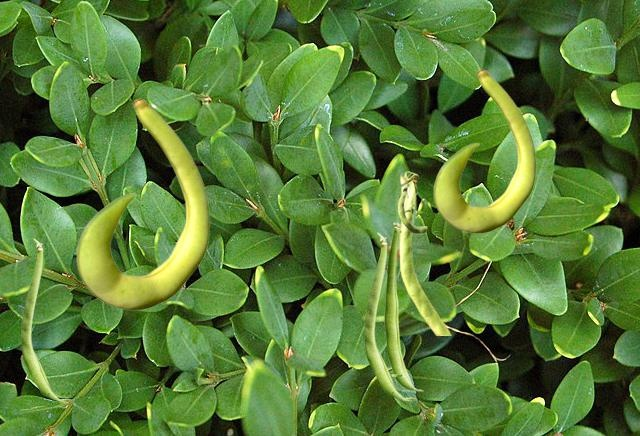french_bean: (76, 98, 209, 309), (433, 69, 535, 232), (364, 232, 416, 400), (397, 171, 450, 334), (21, 238, 71, 401), (384, 222, 423, 390)
